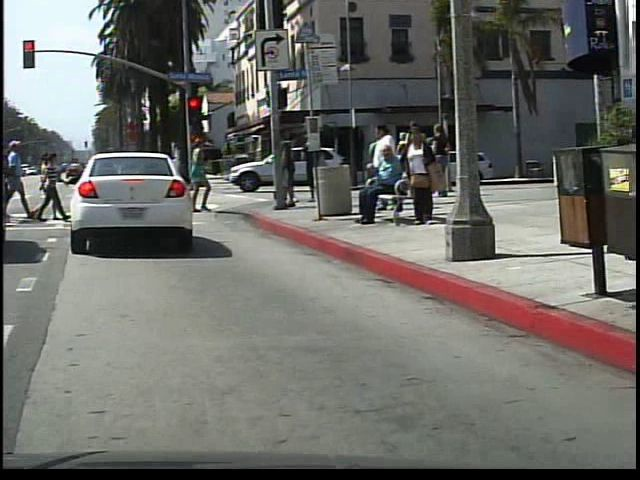person: (356, 146, 411, 226), (405, 125, 442, 224), (189, 134, 215, 206)
